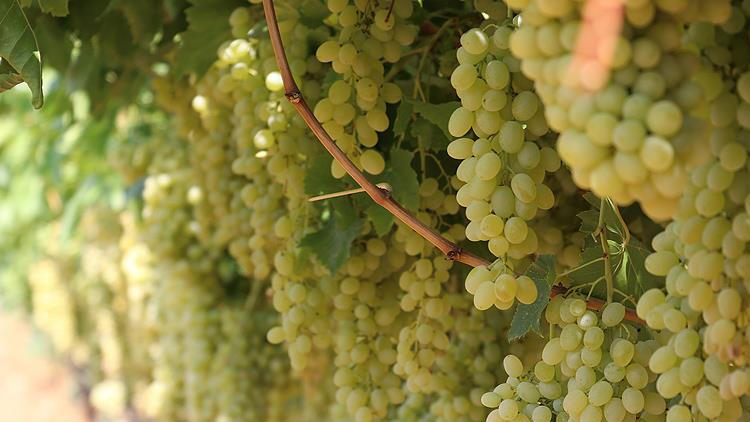Grape: (435, 26, 547, 318), (532, 279, 666, 422), (313, 1, 399, 188), (457, 336, 587, 422), (462, 178, 541, 235), (460, 265, 533, 308)
